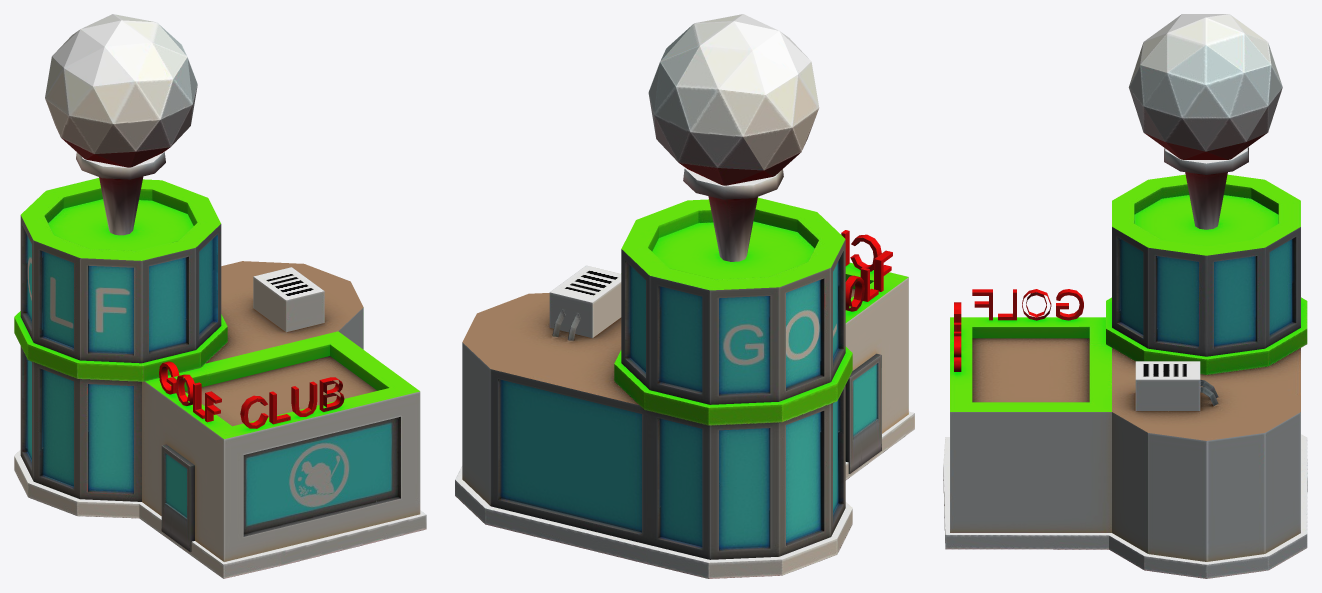
The model's file is Golf Club.glb.
3 views of the same model, side by side, from view 1: azimuth 30°, elevation 25°; view 2: azimuth 150°, elevation 25°; view 3: azimuth 270°, elevation 25° (orthographic). The views are drawn at different scales.
Parts seen in each view (by area): view 1: Cylinder002; view 2: Cylinder002; view 3: Cylinder002.
Boxes of the visible parts, x1=… form: Cylinder002: x1=14, y1=14, x2=426, y2=578; Cylinder002: x1=455, y1=14, x2=914, y2=578; Cylinder002: x1=943, y1=14, x2=1307, y2=578.
Bounding box in the file's own units: 4.54 × 6 × 4.42.
1 material, 1 textured.
